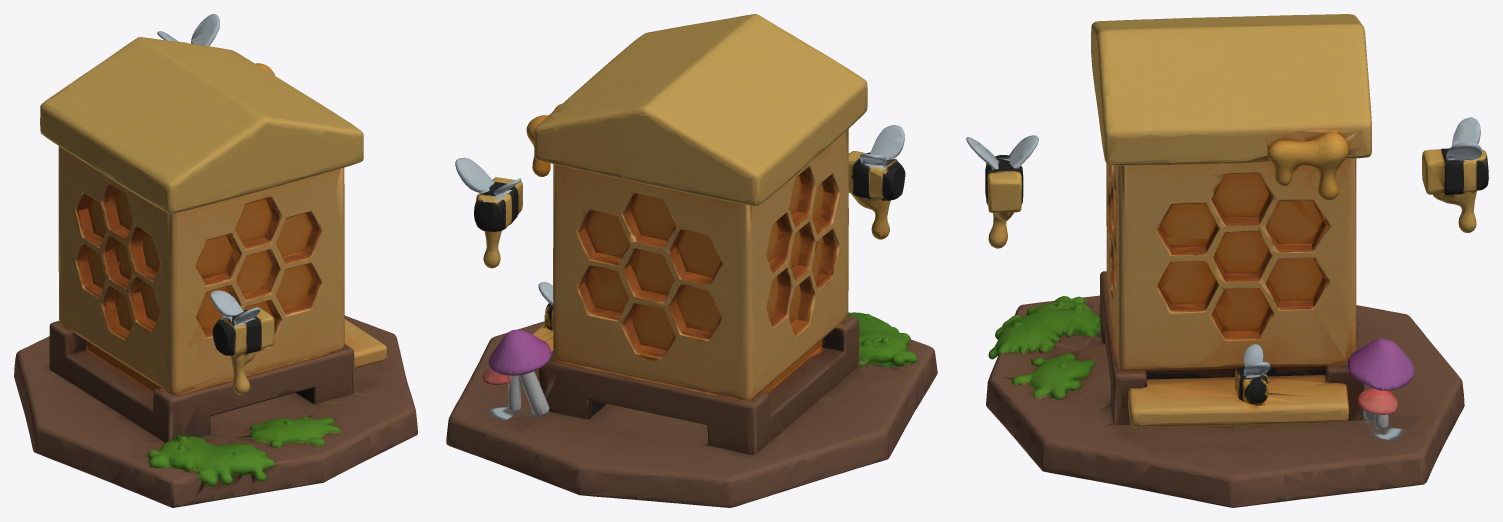
The model's file is beebox1.fbx.
3 renders of one model, left to right at view 1: azimuth 30°, elevation 25°; view 2: azimuth 150°, elevation 25°; view 3: azimuth 270°, elevation 25°, orthographic. The views are drawn at different scales.
Parts seen in each view (by area): view 1: tripo_node_7007431b; view 2: tripo_node_7007431b; view 3: tripo_node_7007431b.
Part boxes in pixels (bbox=[...]): tripo_node_7007431b: bbox=[14, 14, 417, 507]; tripo_node_7007431b: bbox=[446, 14, 937, 507]; tripo_node_7007431b: bbox=[966, 14, 1488, 507].
Bounding box in the file's own units: 89.98 × 77.56 × 97.96.
